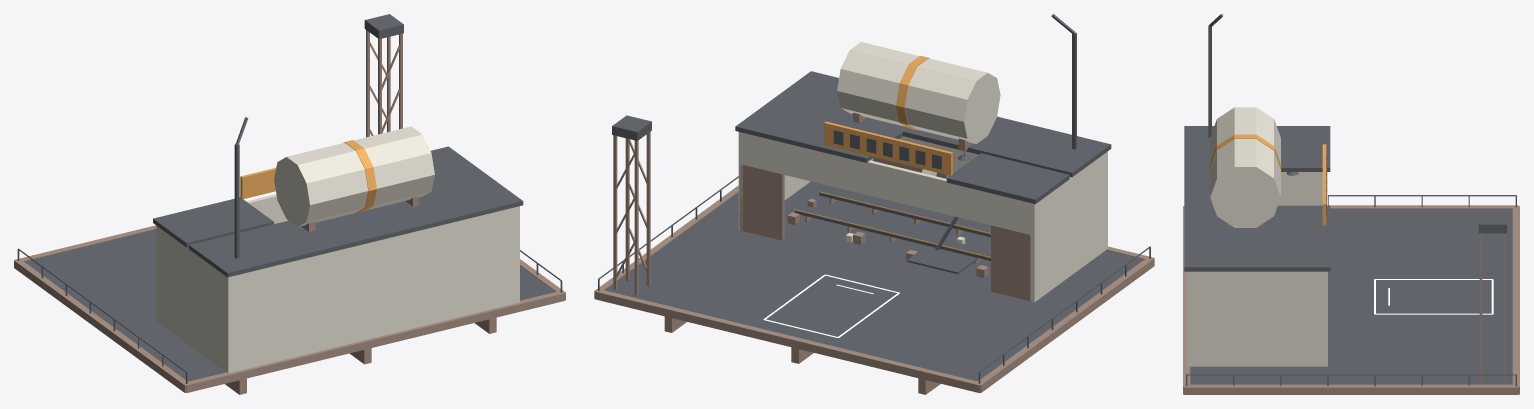
File: SortingHub.fbx
The picture shows the model from 3 angles, left to right: view 1: azimuth 30°, elevation 25°; view 2: azimuth 150°, elevation 25°; view 3: azimuth 270°, elevation 25°; orthographic projection. The views are drawn at different scales.
Parts seen in each view (by area): view 1: Hub; view 2: Hub, Marking; view 3: Hub, Marking.
Part boxes in pixels (box(x1,y1,x2,y2)): Hub: box(14, 14, 565, 394); Hub: box(594, 14, 1154, 394); Marking: box(763, 274, 899, 337); Hub: box(1183, 14, 1519, 394); Marking: box(1374, 279, 1493, 314).
Size of the model in its own units: 36.6 by 24.3 by 28.6.
